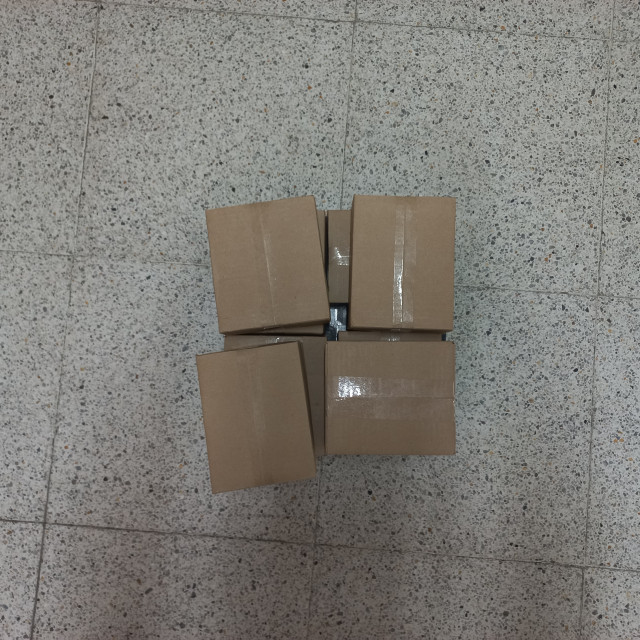box: (191, 338, 322, 498), (200, 191, 333, 336), (321, 337, 460, 459), (348, 194, 458, 333), (321, 143, 416, 302), (311, 304, 409, 447), (215, 180, 319, 304), (218, 307, 299, 448)
